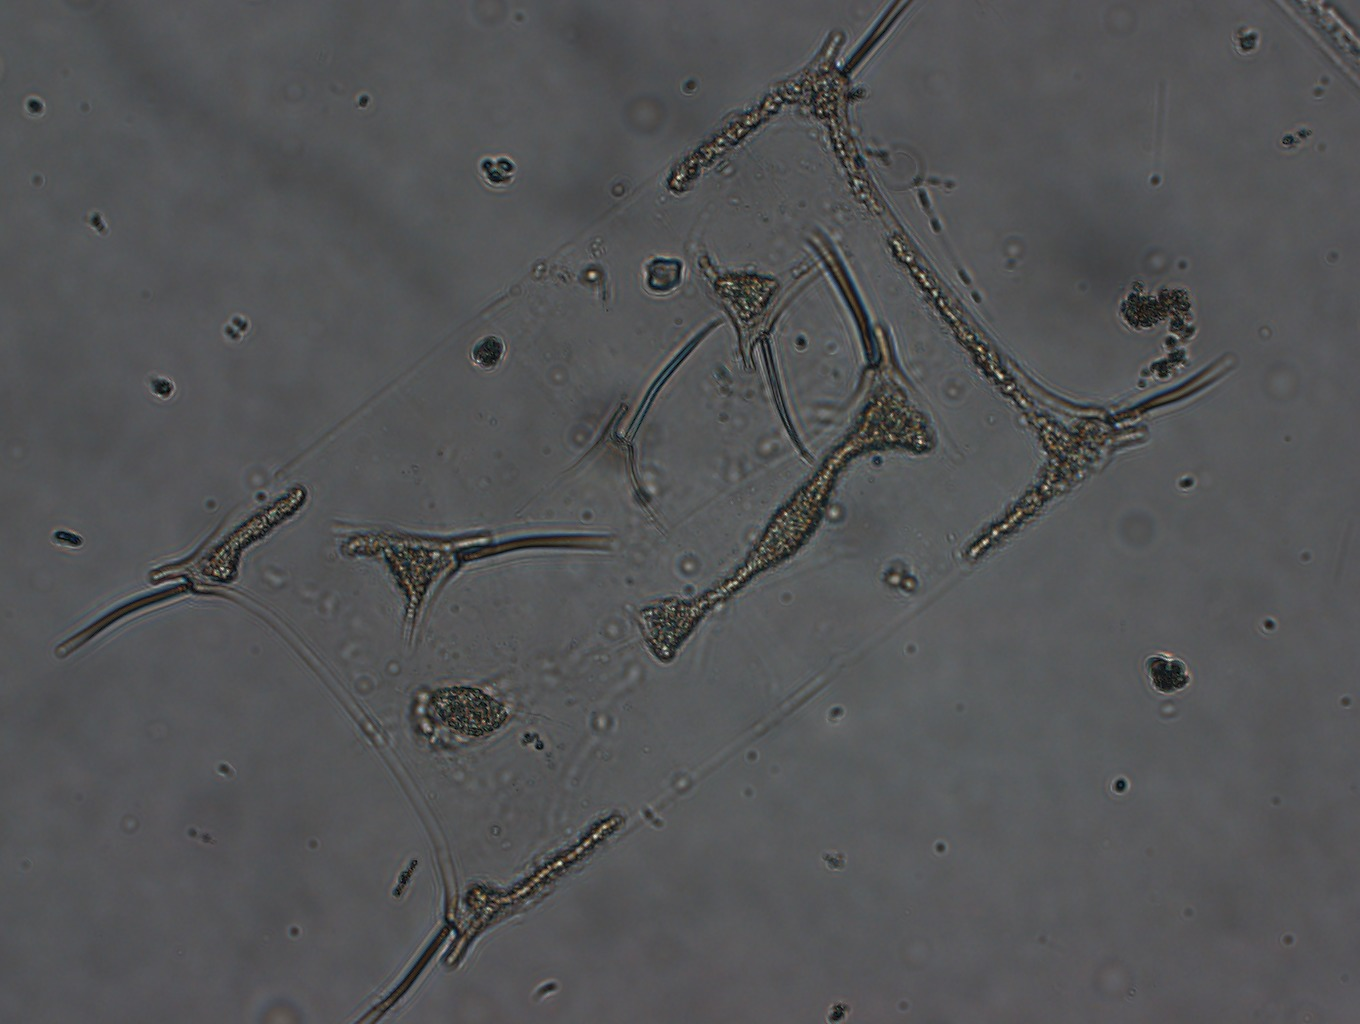biddulphia: (40, 8, 1239, 1024)
